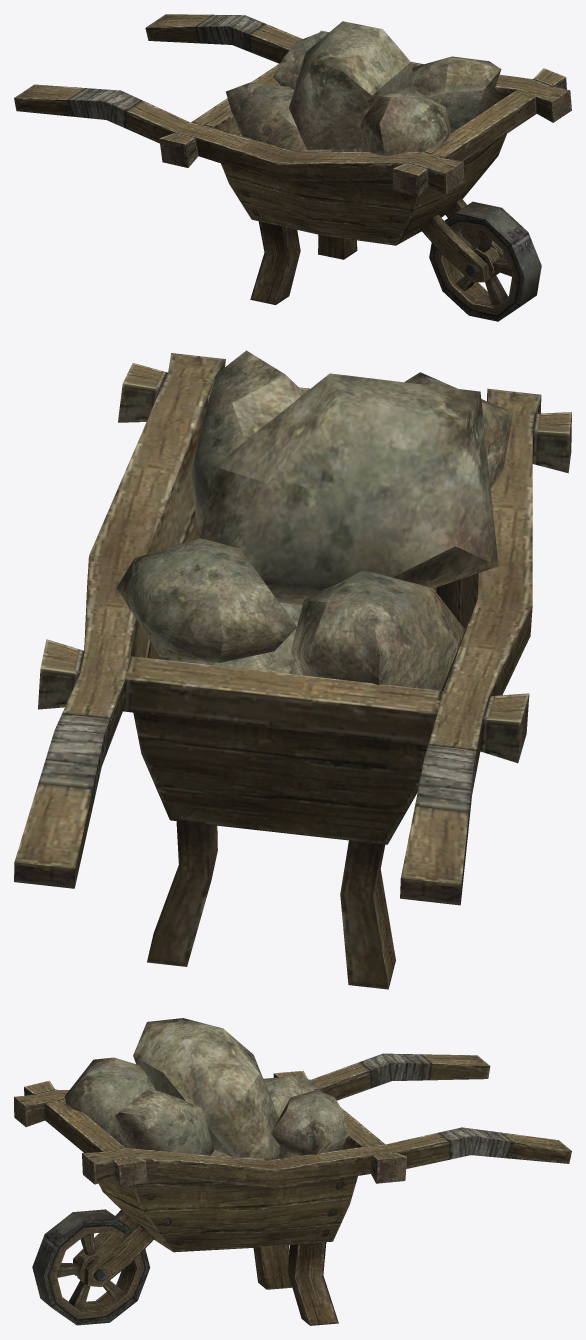
The model's file is cart.dae.
3 renders of one model, top to bottom at view 1: azimuth 30°, elevation 25°; view 2: azimuth 150°, elevation 25°; view 3: azimuth 270°, elevation 25°, orthographic. The views are drawn at different scales.
Visible parts, largest first — view 1: cadnav; view 2: cadnav; view 3: cadnav.
Part boxes in pixels (box(x1,y1,x2,y2)): cadnav: box(14, 14, 571, 321); cadnav: box(14, 350, 571, 989); cadnav: box(14, 1018, 571, 1325).
Size of the model in its own units: 131 by 97.66 by 176.
